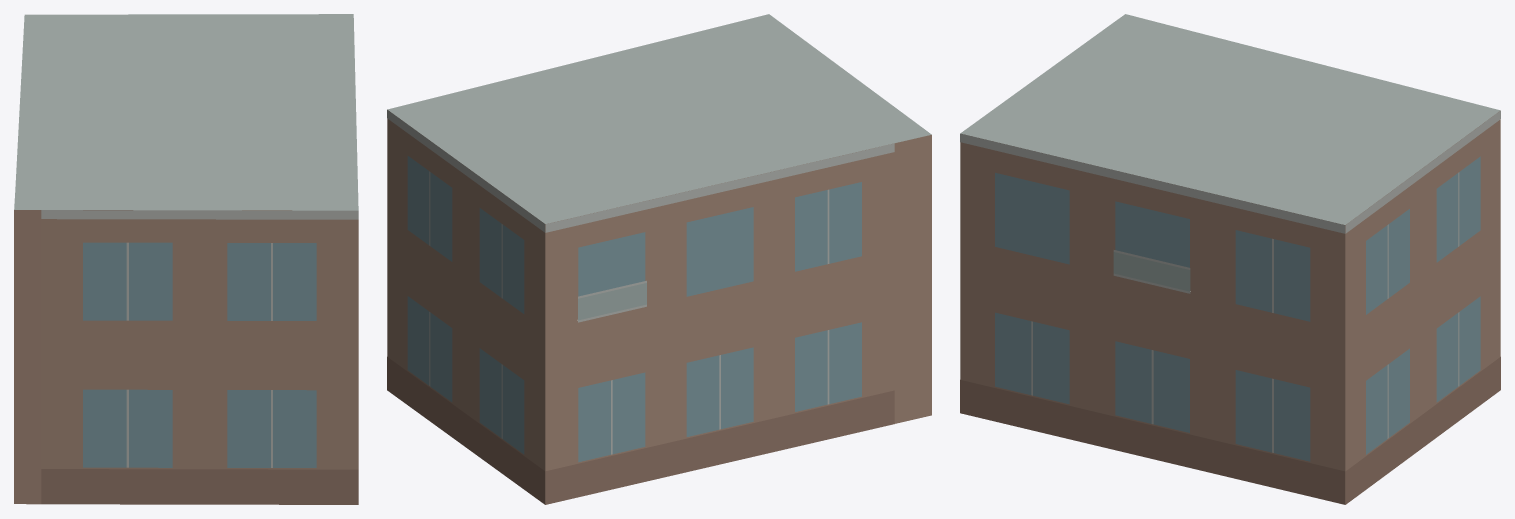
The model's file is survey-upis-32911740.glb.
3 views of the same model, side by side, from view 1: azimuth 30°, elevation 25°; view 2: azimuth 150°, elevation 25°; view 3: azimuth 270°, elevation 25° (orthographic). The views are drawn at different scales.
Parts seen in each view (by area): view 1: survey-upis-32911740.tmp; view 2: survey-upis-32911740.tmp; view 3: survey-upis-32911740.tmp.
Part boxes in pixels (left/top/right/bottom): survey-upis-32911740.tmp: left=14, top=14, right=358, bottom=504; survey-upis-32911740.tmp: left=387, top=14, right=931, bottom=504; survey-upis-32911740.tmp: left=960, top=14, right=1500, bottom=504.
Size of the model in its own units: 12.63 by 7.8 by 13.67.
